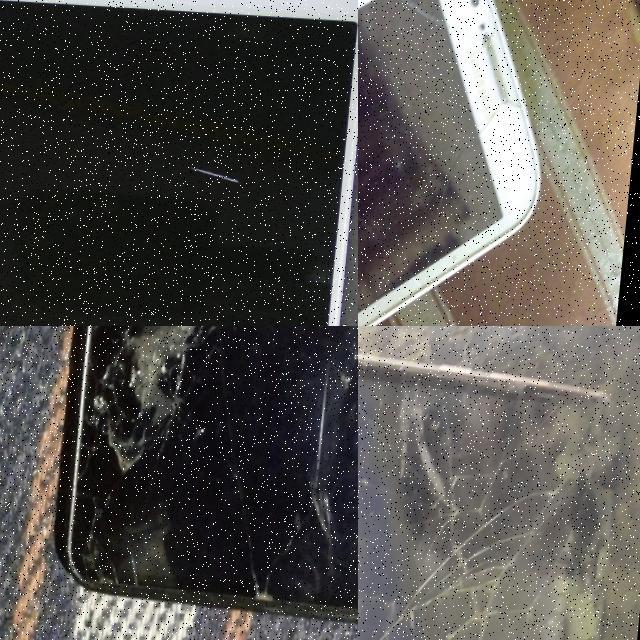scratch: (180, 154, 259, 188)
screen crack: (358, 326, 638, 640), (75, 326, 226, 479), (369, 0, 522, 83), (72, 533, 152, 611), (237, 560, 308, 631)
